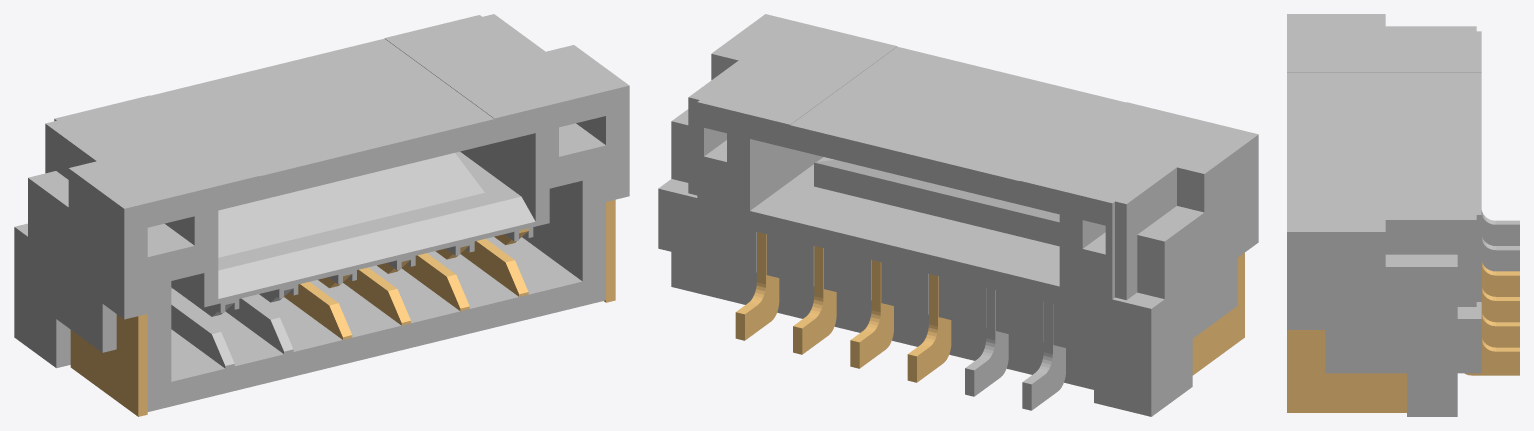
File: SM06B-GHS-TB.obj
3 views of the same model, side by side, from view 1: azimuth 30°, elevation 25°; view 2: azimuth 150°, elevation 25°; view 3: azimuth 270°, elevation 25° (orthographic). The views are drawn at different scales.
Visible parts, largest first — view 1: SM06B-GHS-TB; view 2: SM06B-GHS-TB; view 3: SM06B-GHS-TB.
Boxes of the visible parts, box(x1,y1,x2,y2) form: SM06B-GHS-TB: box(14, 14, 629, 416); SM06B-GHS-TB: box(658, 14, 1258, 416); SM06B-GHS-TB: box(1287, 14, 1519, 416).
Size of the model in its own units: 0.0288 by 0.0115 by 0.013.
